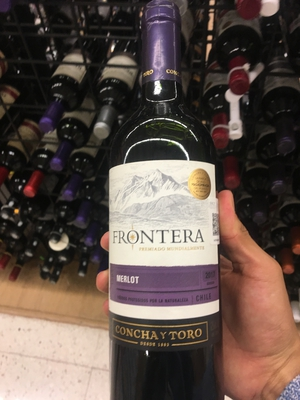frontera merlot: (93, 12, 240, 400)
